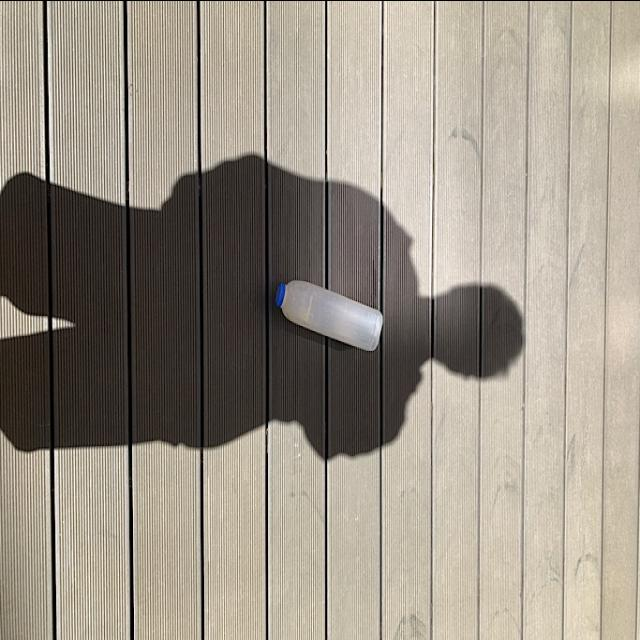HDPEM: (276, 274, 386, 356)
